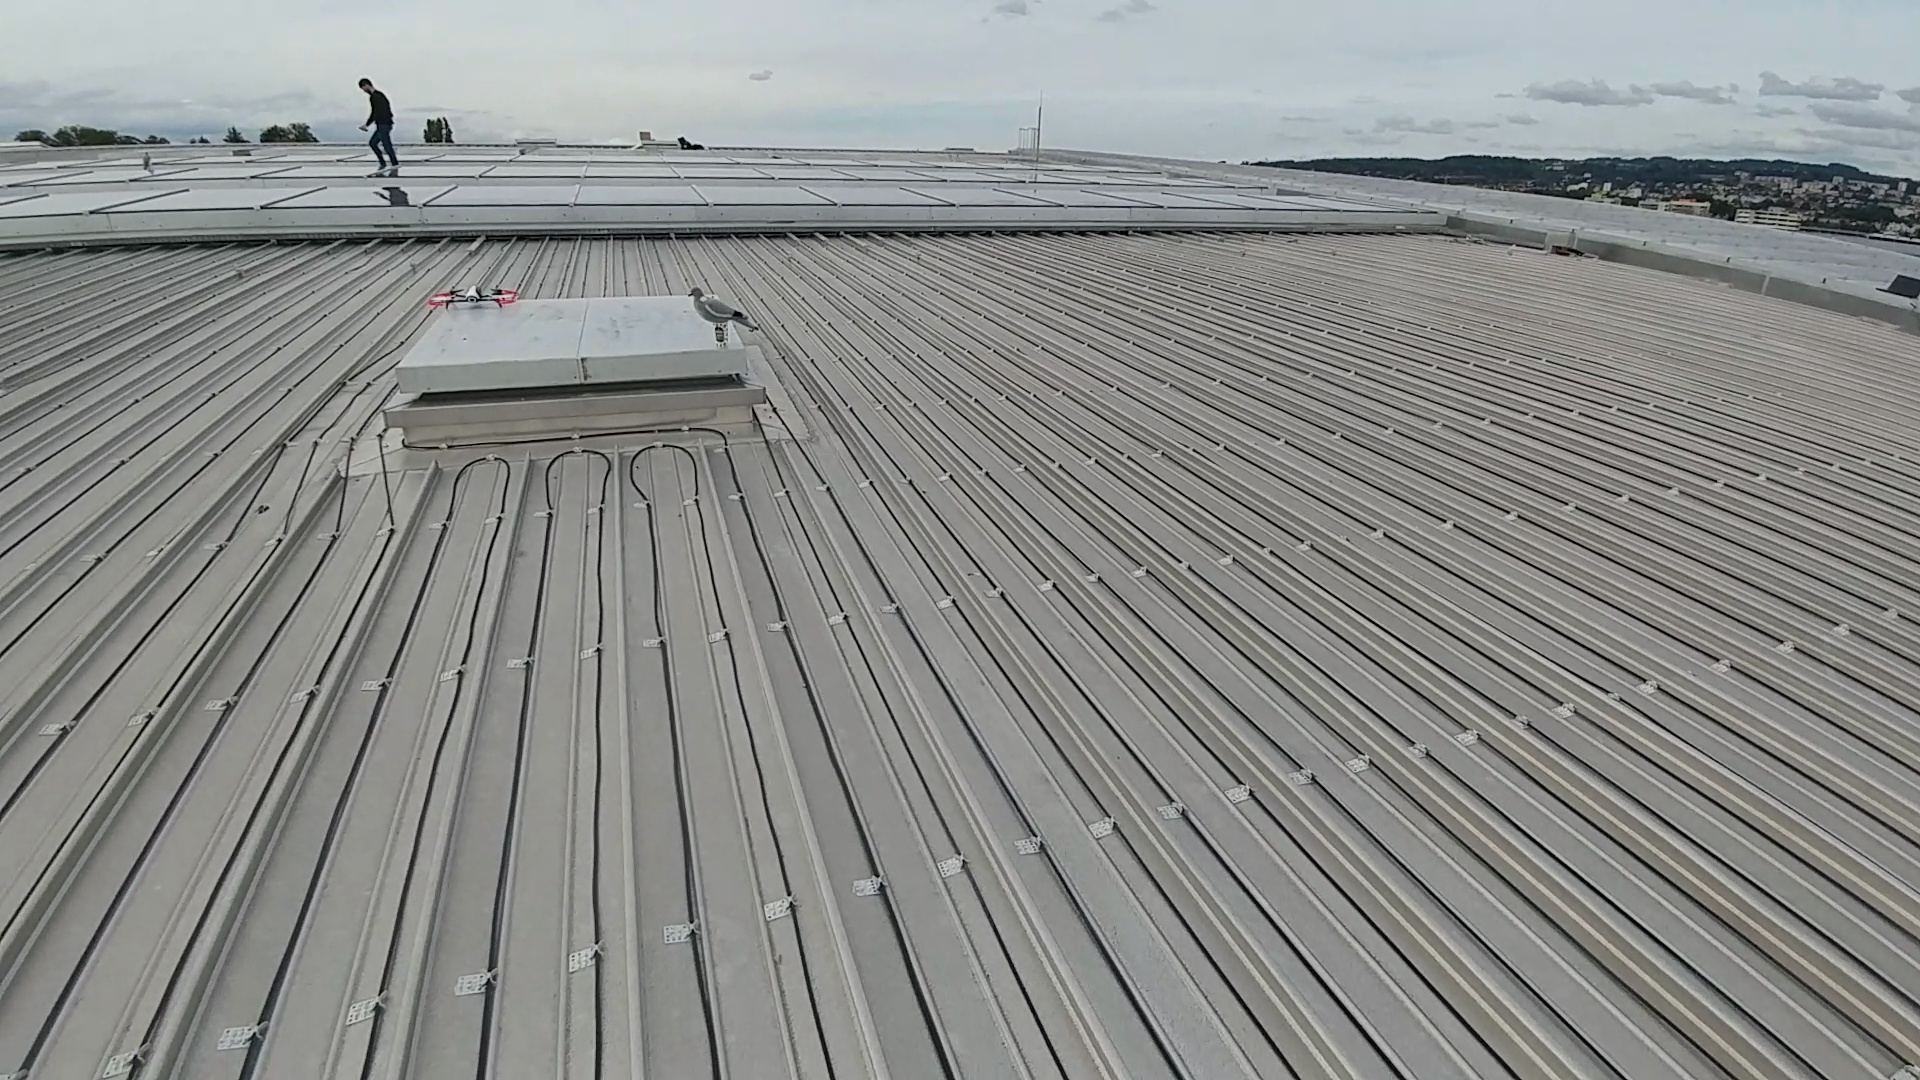Pigeon: (682, 284, 764, 323)
